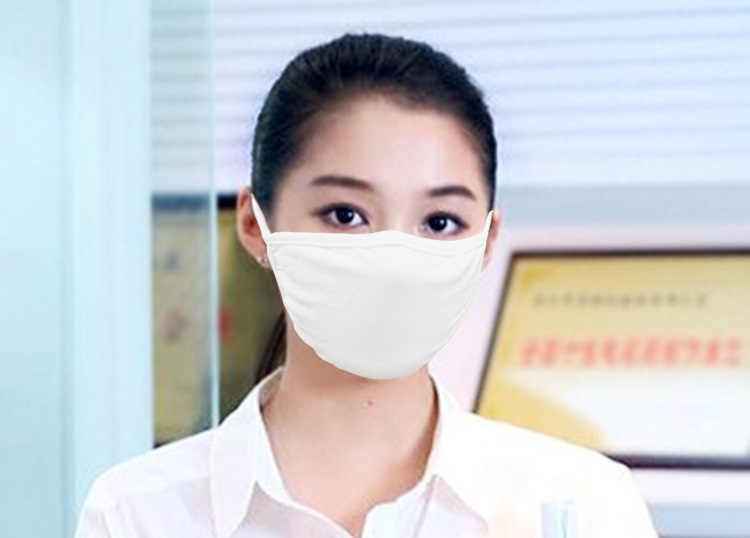face_mask: (272, 101, 490, 379)
